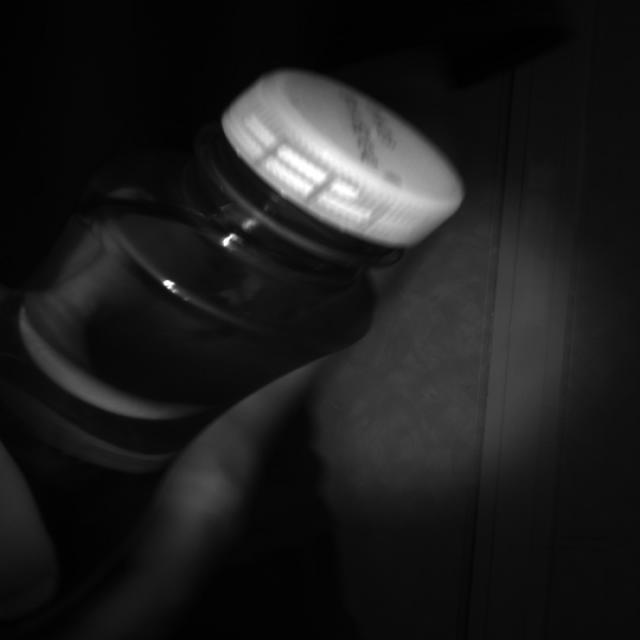Not Good: (206, 69, 462, 267)
